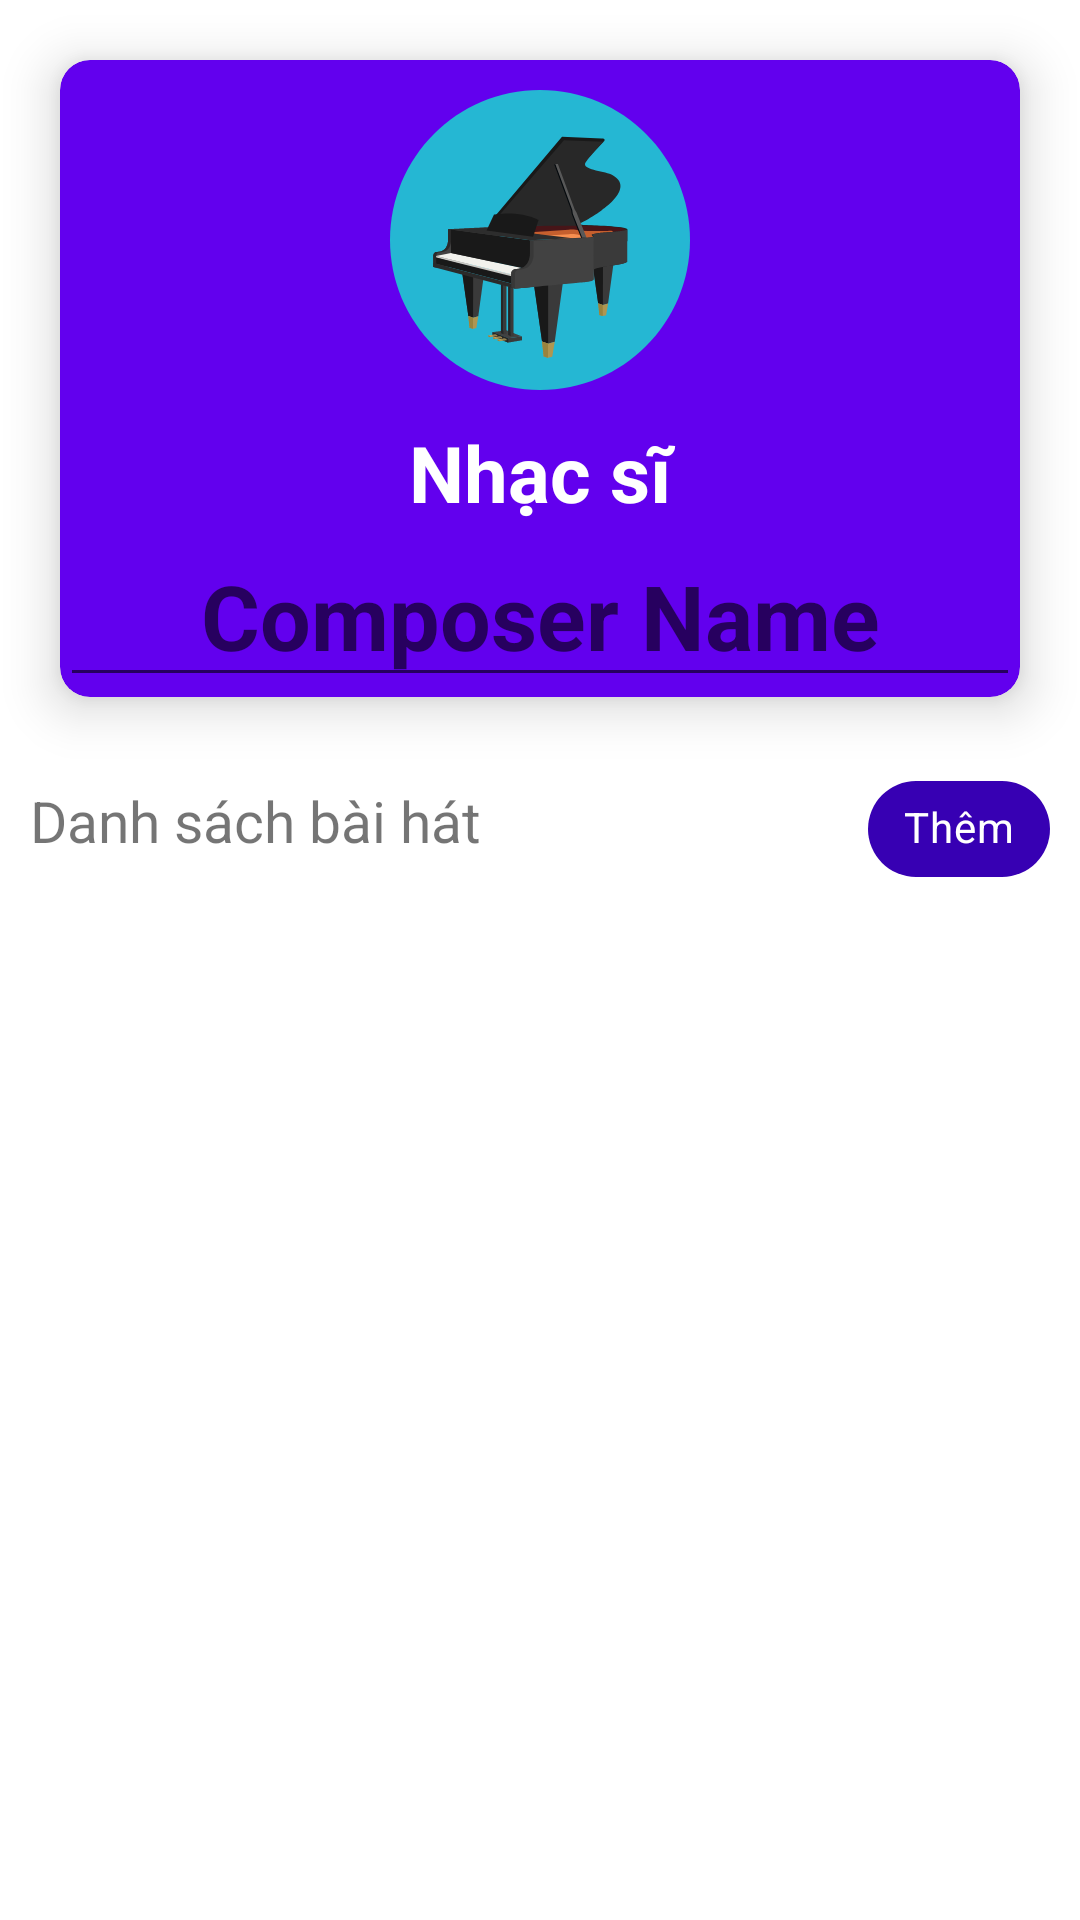

Locate icon controls on the screen. Image size 1080 x 1920, boxes as {"left": x1, "top": y1, "right": x2, "bottom": y2}.
pianoicon: {"left": 390, "top": 90, "right": 690, "bottom": 390}
